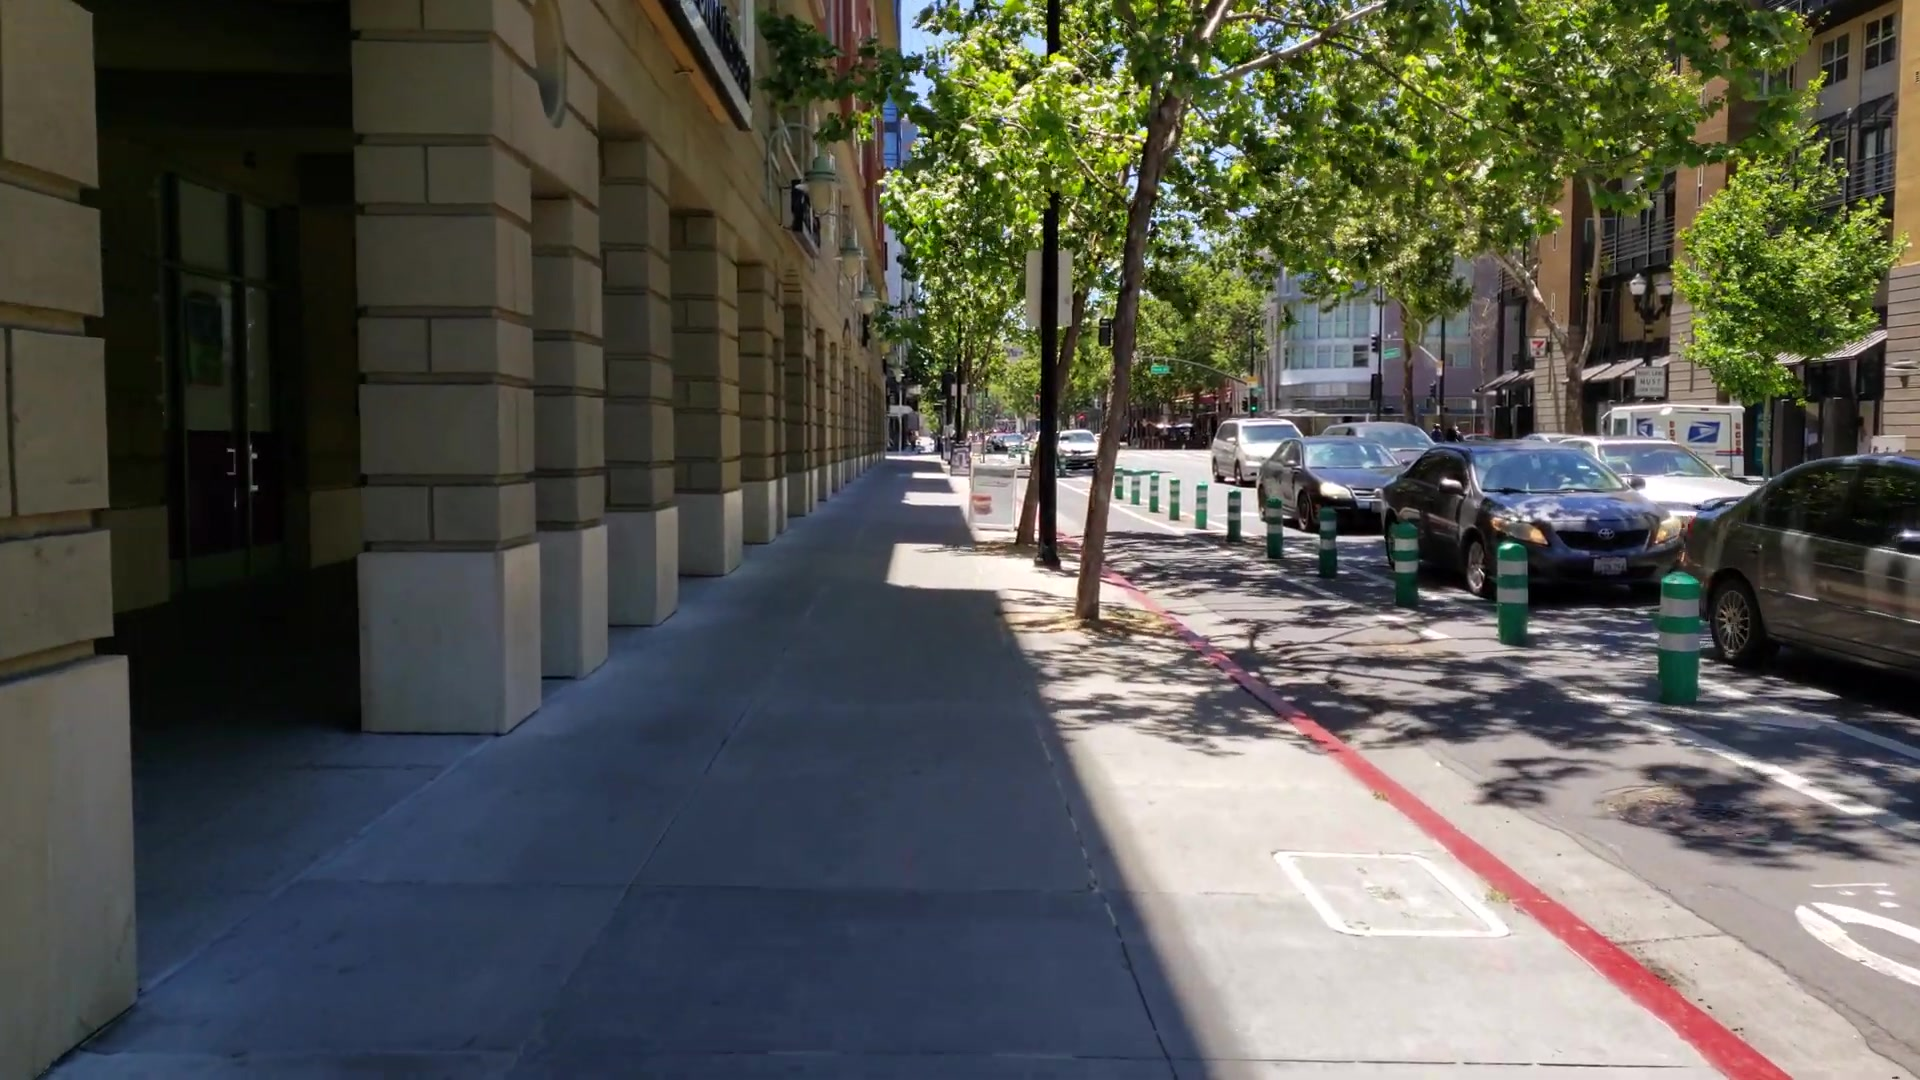vehicle: (1683, 450, 1920, 695), (1377, 440, 1683, 609), (1257, 436, 1375, 531), (1215, 415, 1299, 481)
